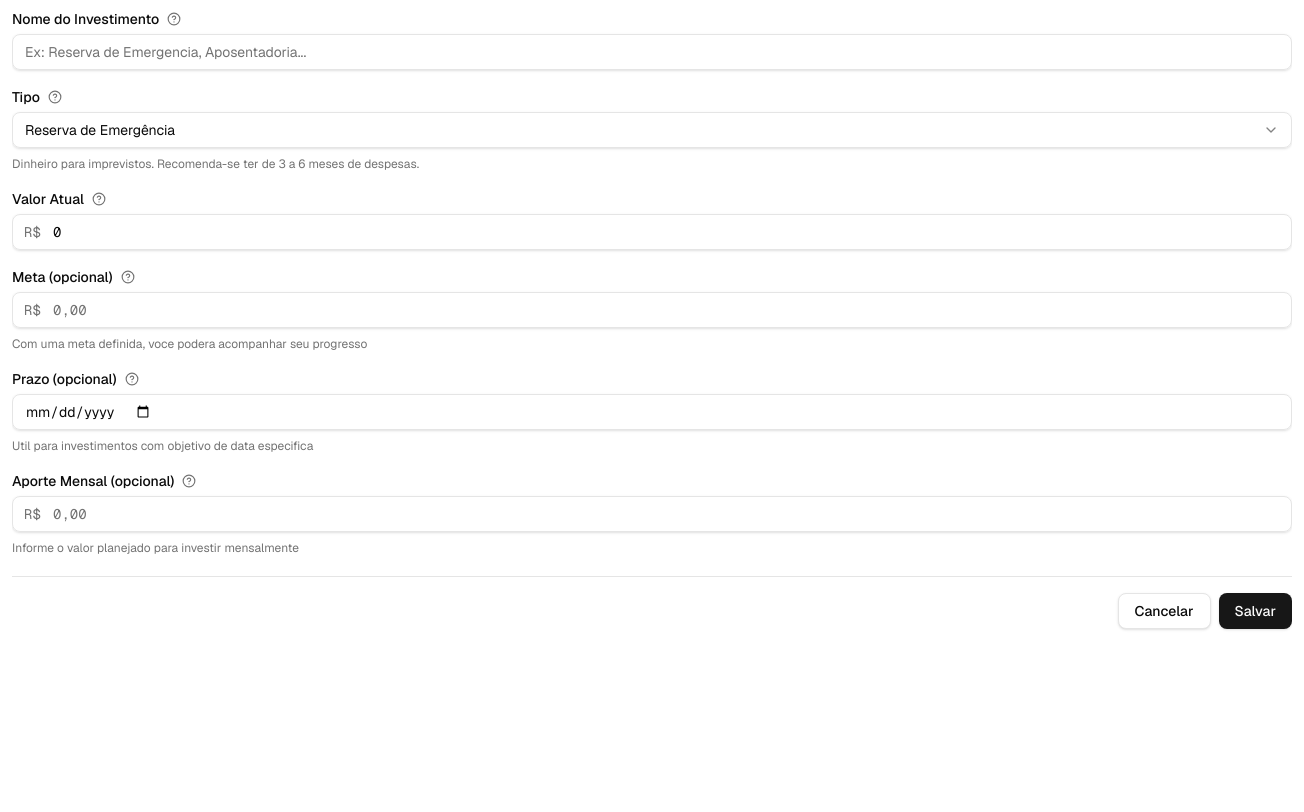
Test: InvestmentForm › should_show_validation_error_when_name_empty
What coordinates should you click on to do the following:
click the button with test id "investment-form-submit"
I would click on:
 (1255, 611)
Its box is top-left (1218, 593), bottom-right (1292, 629).
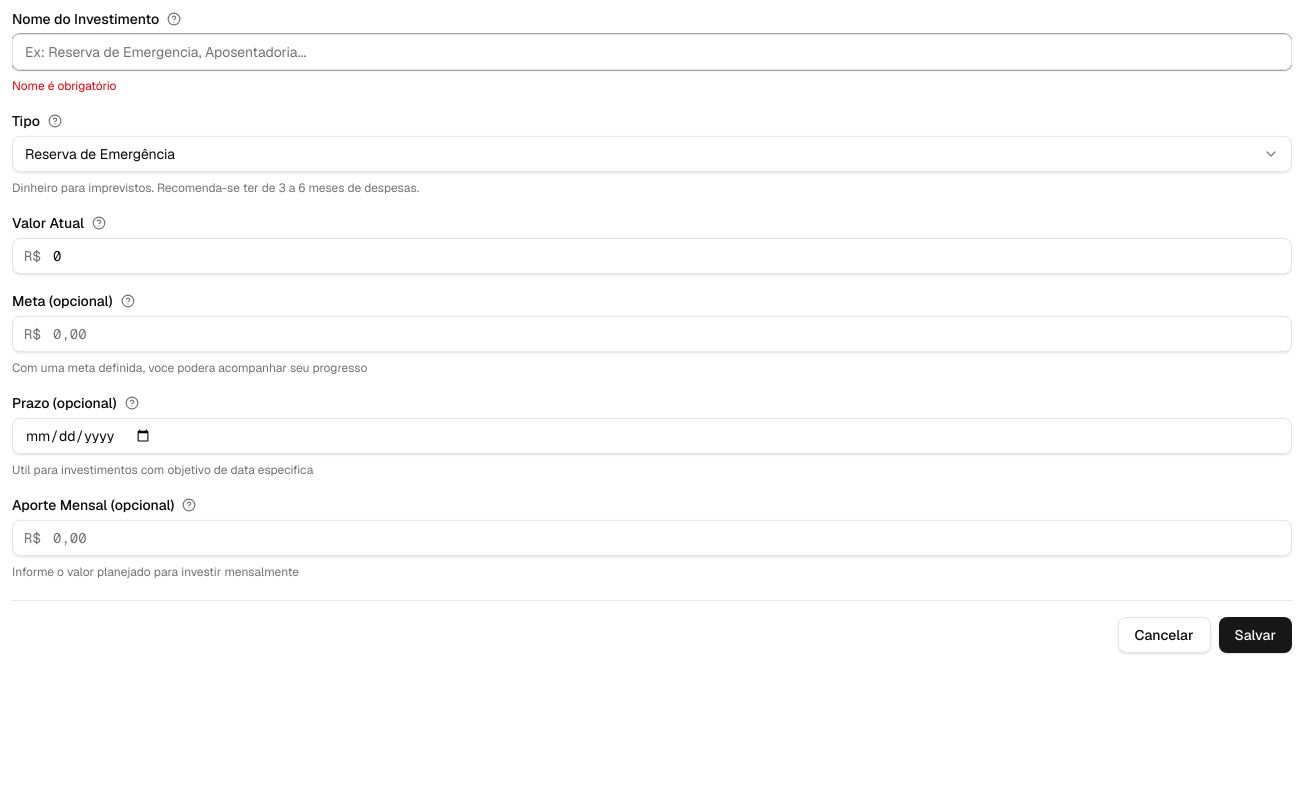
Expected: the text "Nome é obrigatório" is shown, top-left (12, 78), bottom-right (116, 94)
